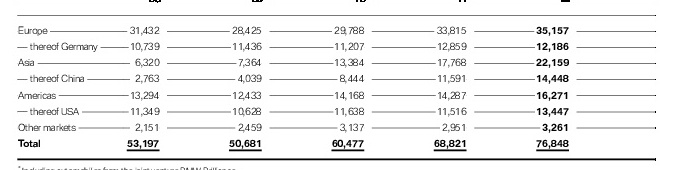table: (0, 0, 680, 170)
